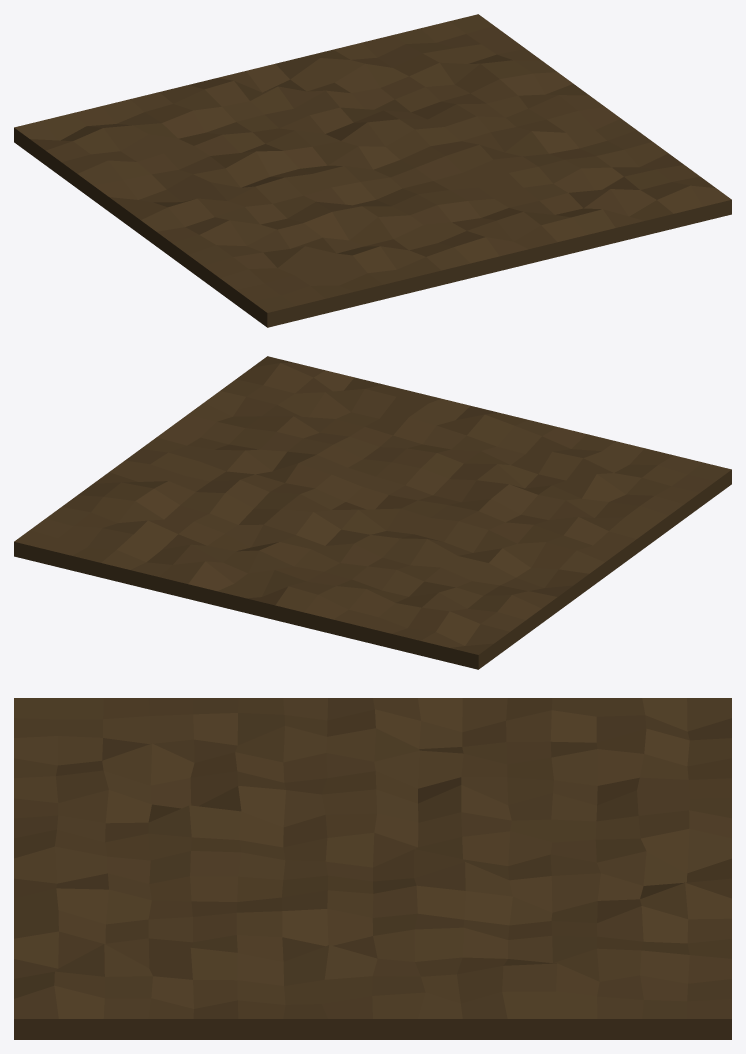
Rendered from Ground.fbx.
The picture shows the model from 3 angles, top to bottom: view 1: azimuth 30°, elevation 25°; view 2: azimuth 150°, elevation 25°; view 3: azimuth 270°, elevation 25°; orthographic projection. The views are drawn at different scales.
Parts seen in each view (by area): view 1: zemin; view 2: zemin; view 3: zemin.
Boxes of the visible parts, x1,y1,x2,y2 form: zemin: [14, 14, 731, 327]; zemin: [14, 356, 731, 669]; zemin: [14, 698, 731, 1039].
Size of the model in its own units: 20.3 by 1.07 by 19.19.
